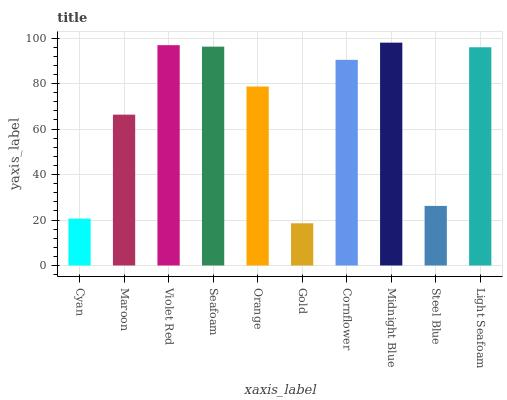axis: (51, 31, 62, 277)
label: (471, 285, 490, 372), (159, 284, 180, 353), (384, 284, 400, 372), (339, 287, 356, 357), (205, 285, 224, 342), (116, 284, 135, 336), (246, 285, 266, 334), (429, 285, 444, 349), (69, 284, 90, 321), (293, 285, 312, 324)
rectangle: (157, 44, 181, 266), (379, 42, 402, 266), (202, 47, 225, 266), (469, 48, 492, 266), (336, 58, 359, 266), (247, 88, 268, 266), (113, 115, 135, 266), (424, 206, 446, 265), (67, 218, 91, 267), (291, 224, 314, 266)
title: (51, 5, 94, 27)
